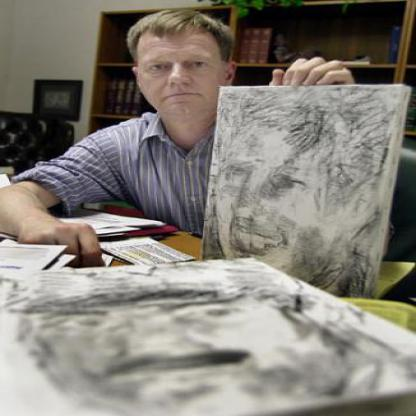face: (135, 13, 228, 121)
